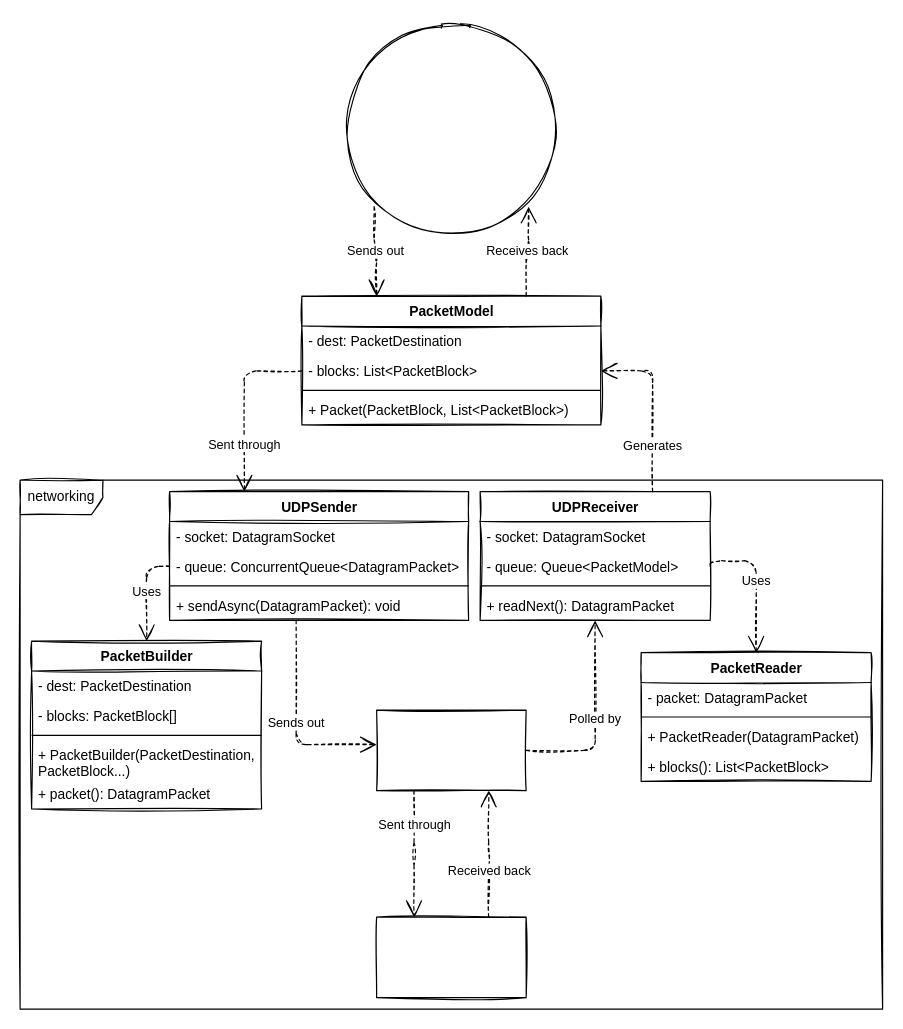
This 903x1029 diagram has some shape labels left out. The shapes that lost their labels are listed below. From the top down, each one's centre as x and y in pixels, then its label:
pixel 451 129: Application
pixel 450 750: DatagramPacket
pixel 450 957: DatagramSocket
